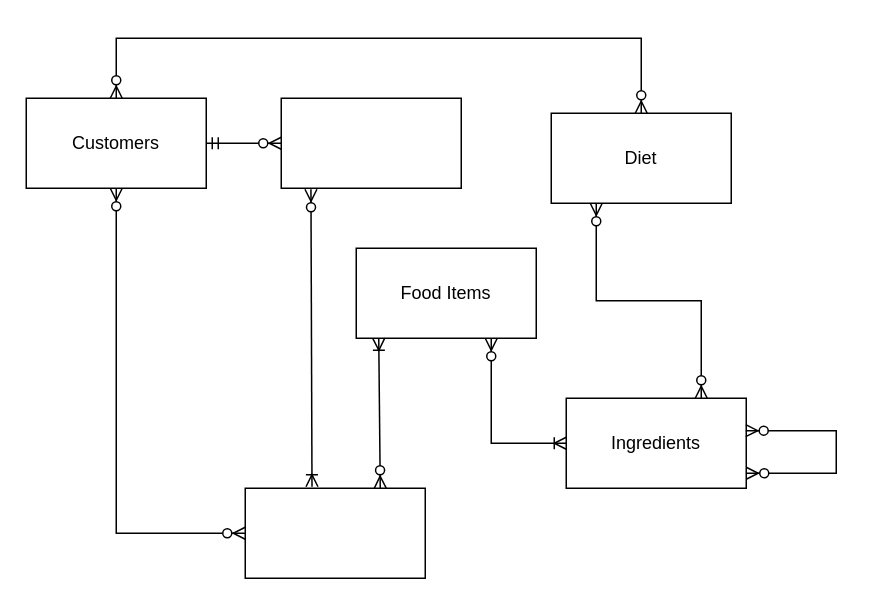
Image size: 876x605. Some labels were removed from this diagram. The shapes that lost their labels are listed below. From the top down, each one's box as (x1, y1, x2, y2) in pixels, then its label:
(280, 97, 461, 188): Orders
(244, 487, 425, 578): Meals
